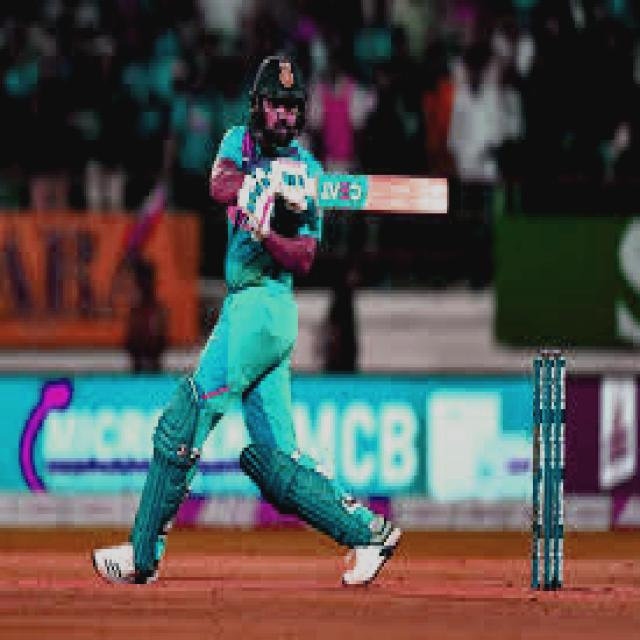toe: (413, 172, 452, 215)
